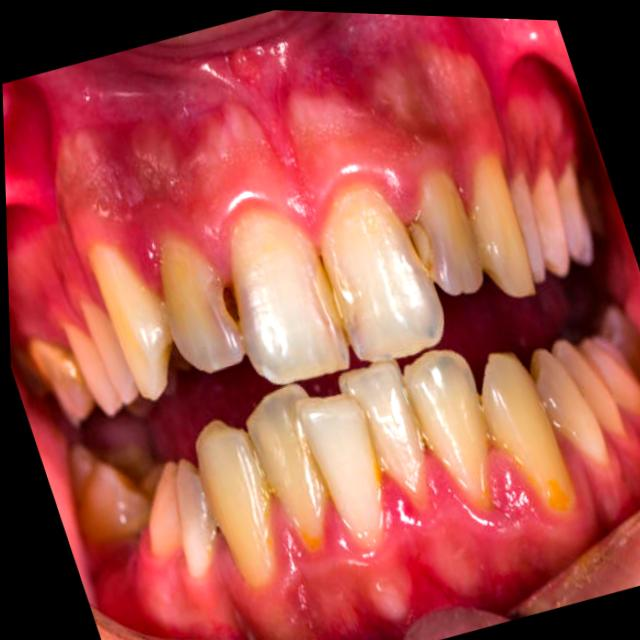calculus: (513, 433, 573, 509), (277, 484, 326, 547), (300, 435, 326, 522), (362, 415, 382, 503), (474, 401, 490, 506), (409, 220, 434, 280), (225, 284, 238, 324)
gingivitis: (6, 55, 574, 304), (112, 406, 640, 640)
